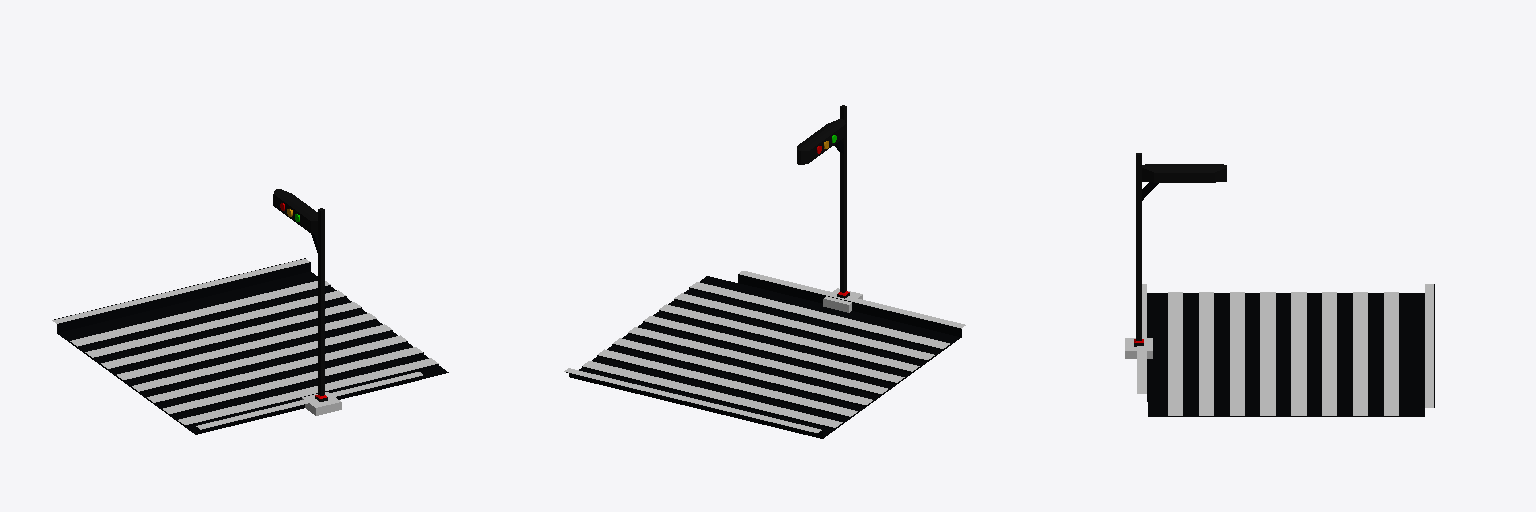
Rendered from semaforo_cuadrado.obj.
The picture shows the model from 3 angles: view 1: azimuth 30°, elevation 25°; view 2: azimuth 150°, elevation 25°; view 3: azimuth 270°, elevation 25°; orthographic projection.
Parts seen in each view (by area): view 1: Plane.008; view 2: Plane.008; view 3: Plane.008.
Boxes of the visible parts, x1,y1,x2,y2 form: Plane.008: [52, 189, 448, 434]; Plane.008: [564, 105, 965, 438]; Plane.008: [1125, 153, 1434, 416].
Size of the model in its own units: 5.79 by 4.33 by 6.13.